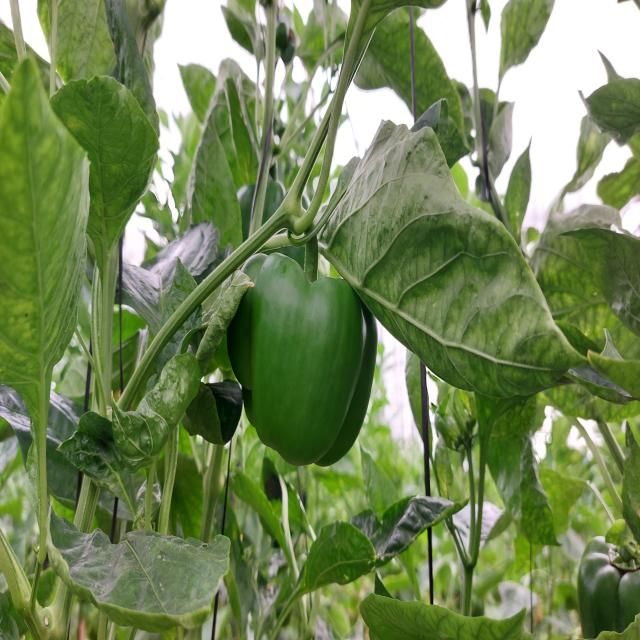Green--Not-ready-to-harvest: (235, 245, 378, 477), (580, 537, 640, 640)
